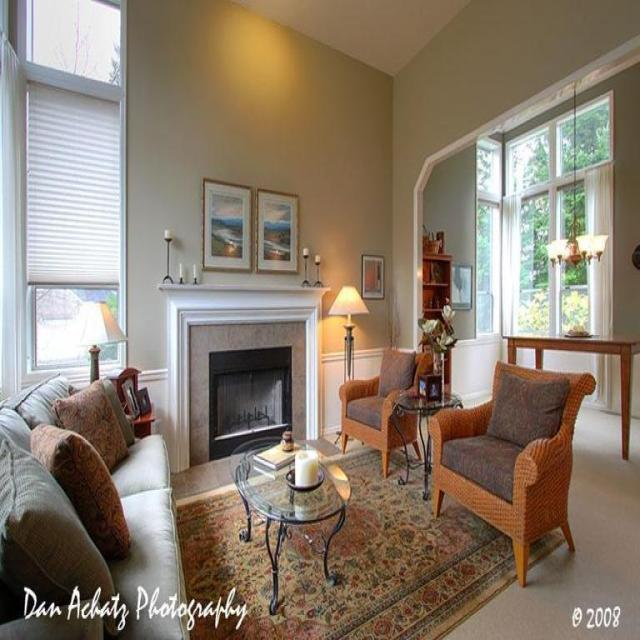carpet: (174, 439, 571, 639)
chair: (338, 346, 434, 479)
curtains: (0, 31, 27, 400), (584, 160, 614, 405)
lamps: (545, 79, 609, 269), (72, 300, 128, 384), (328, 285, 369, 381)
pillows: (0, 432, 119, 636), (29, 421, 132, 560), (51, 378, 128, 472), (486, 368, 570, 448)
shelf: (422, 253, 452, 385)
sofa: (0, 371, 190, 639)
table: (502, 331, 639, 460), (388, 388, 464, 500)
window: (8, 0, 128, 390)
